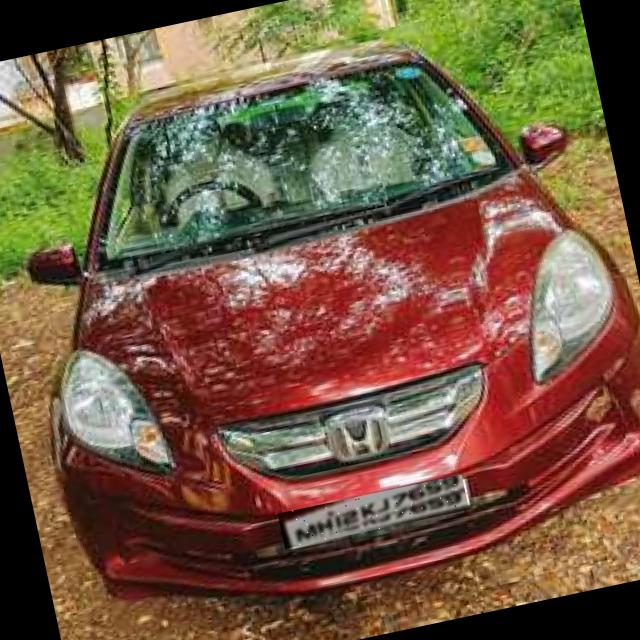Plate: (279, 475, 470, 549)
